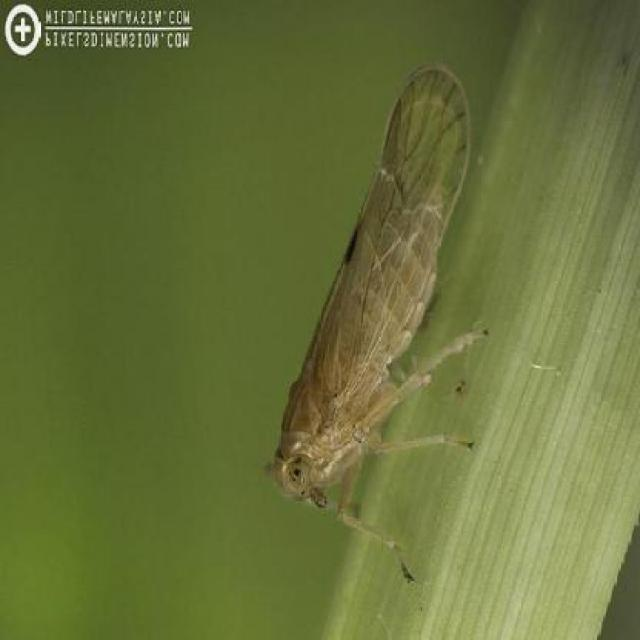brown-planthopper: (266, 57, 492, 521)
